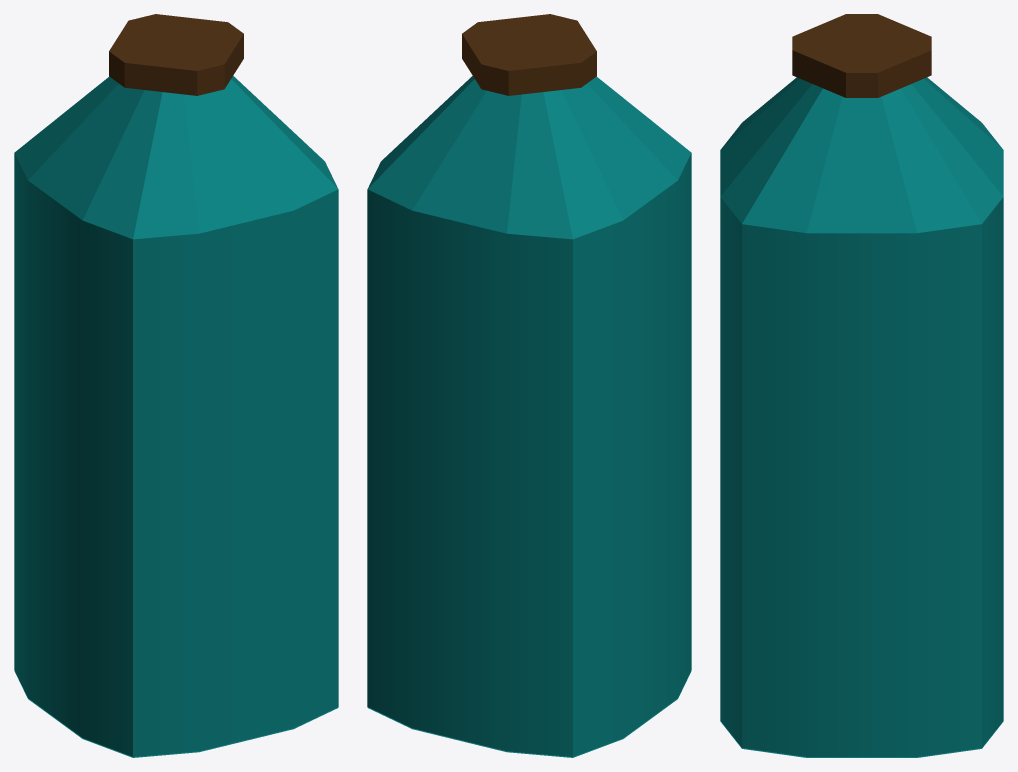
File: Botella_Armada.fbx
The picture shows the model from 3 angles, left to right: view 1: azimuth 30°, elevation 25°; view 2: azimuth 150°, elevation 25°; view 3: azimuth 270°, elevation 25°; orthographic projection.
Visible parts, largest first — view 1: Botella_Armada; view 2: Botella_Armada; view 3: Botella_Armada.
Boxes of the visible parts, x1,y1,x2,y2 form: Botella_Armada: (14,14,338,757); Botella_Armada: (367,14,691,757); Botella_Armada: (720,14,1003,757).
Size of the model in its own units: 4.07 by 10.37 by 4.07.
